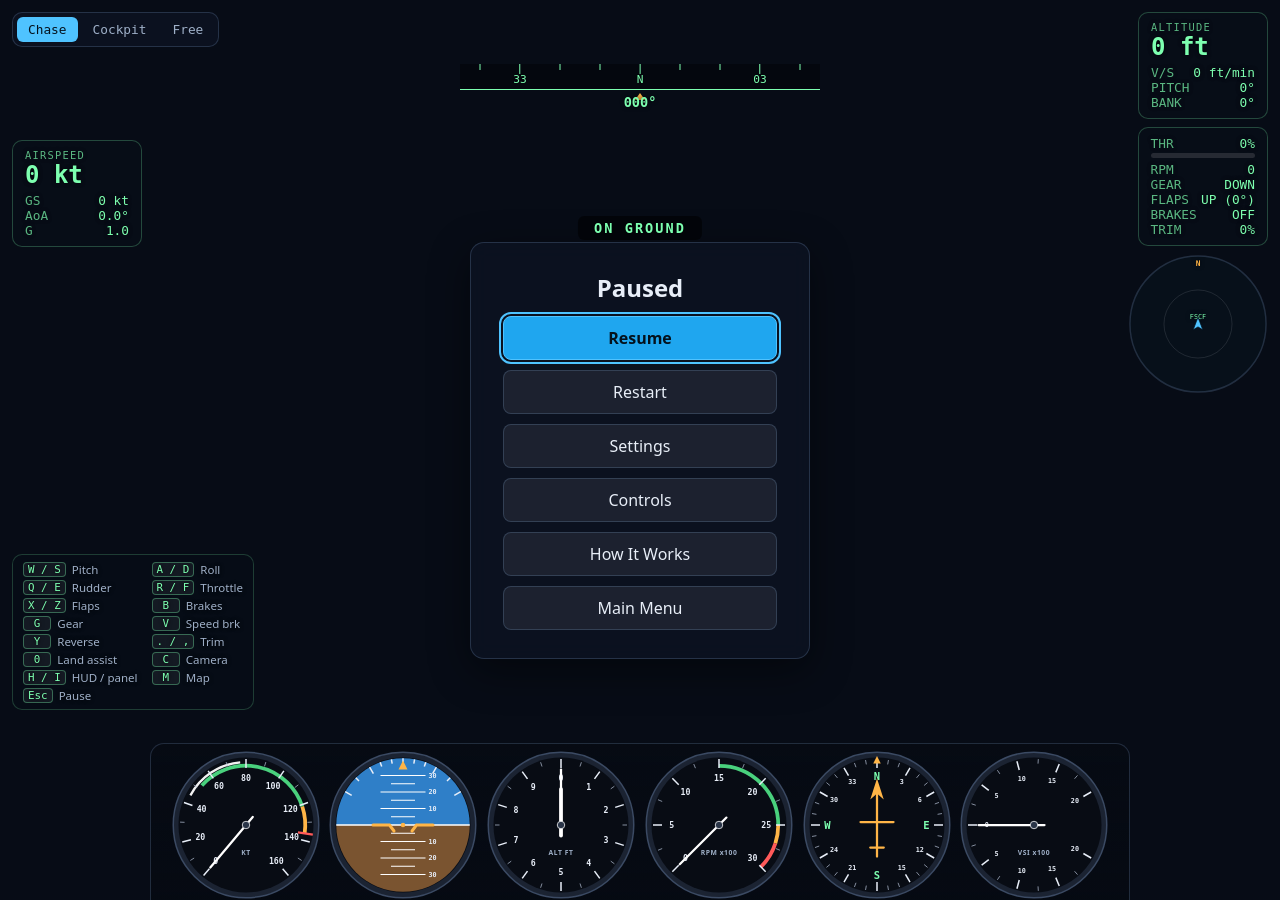
pause menu › Settings and Controls overlays sit above the pause menu
The width and height of the screenshot is (1280, 900).
Click the button "Settings" at point(640, 446), box [503, 424, 777, 468]
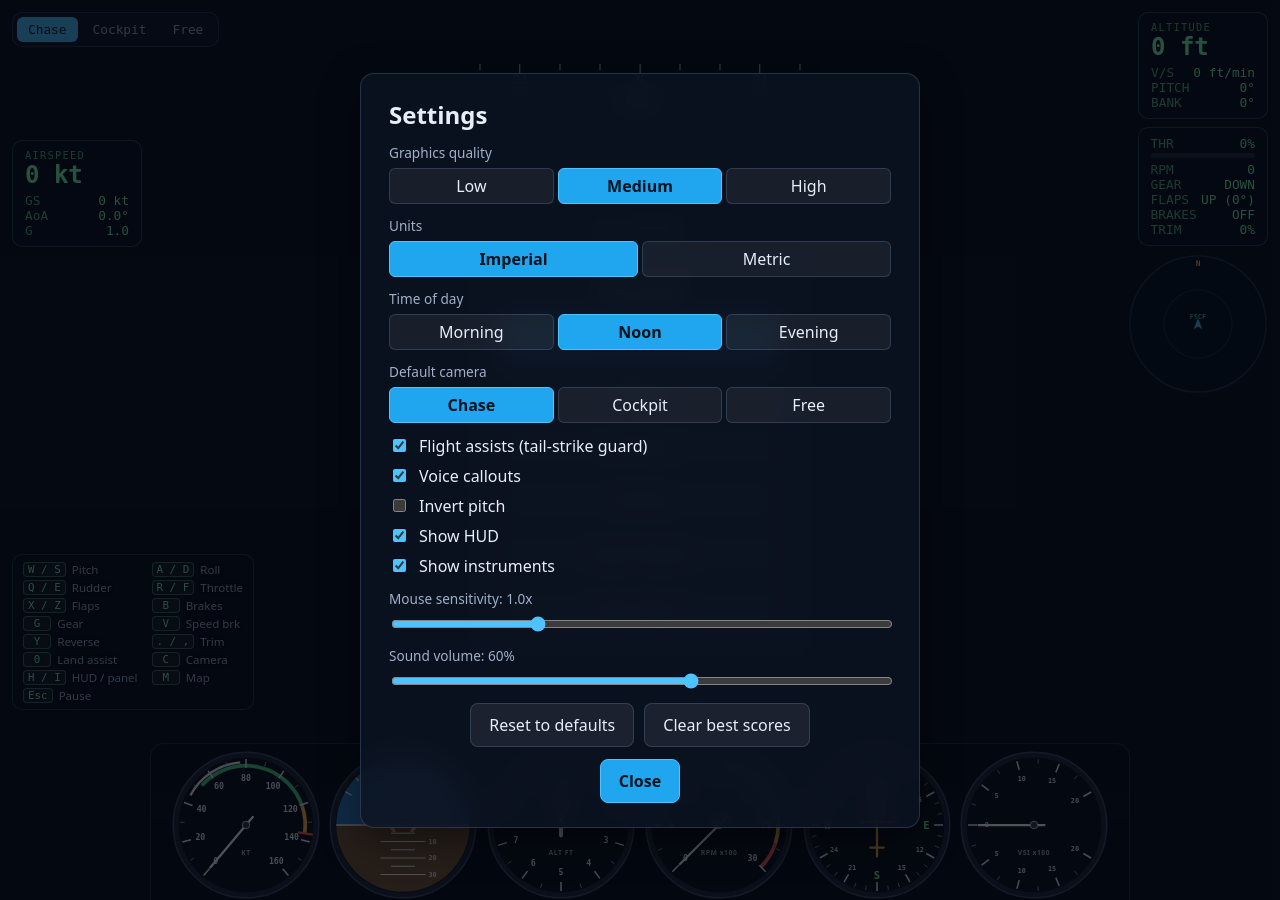
Result: the dialog "Settings" is shown
